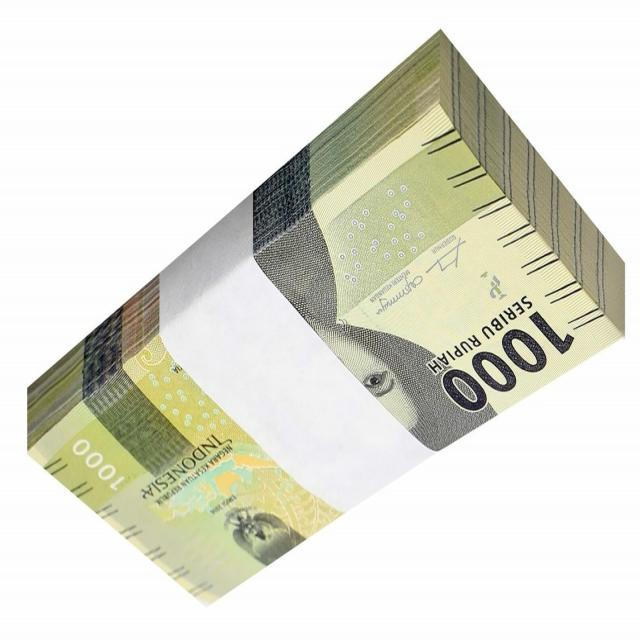1000IndonesianRupiah: (23, 48, 627, 611)
